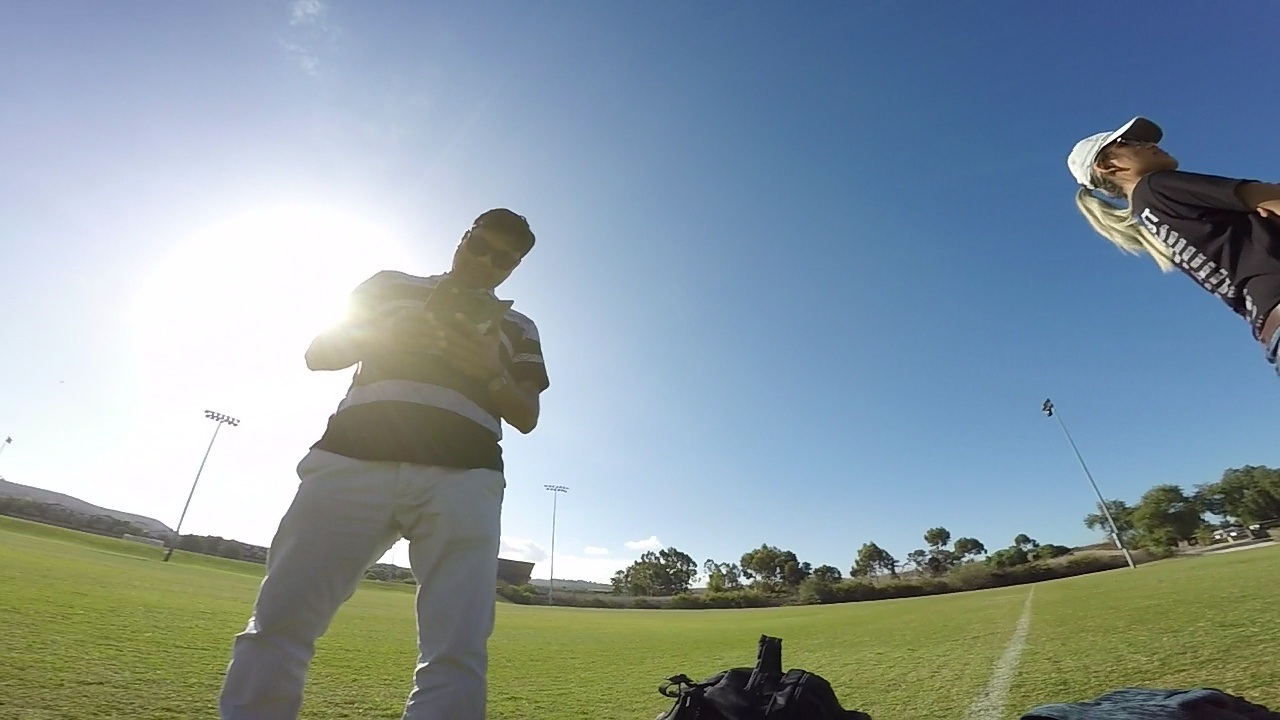person: (198, 186, 548, 720), (1063, 113, 1278, 355)
